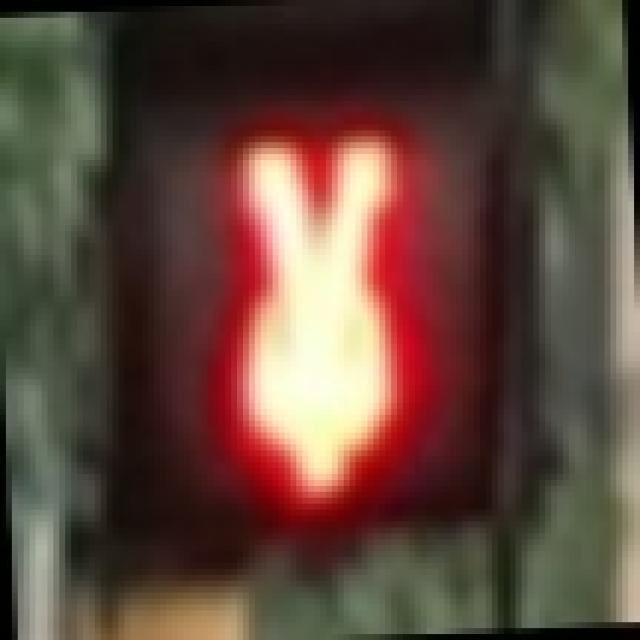red-crossing: (142, 89, 486, 534)
